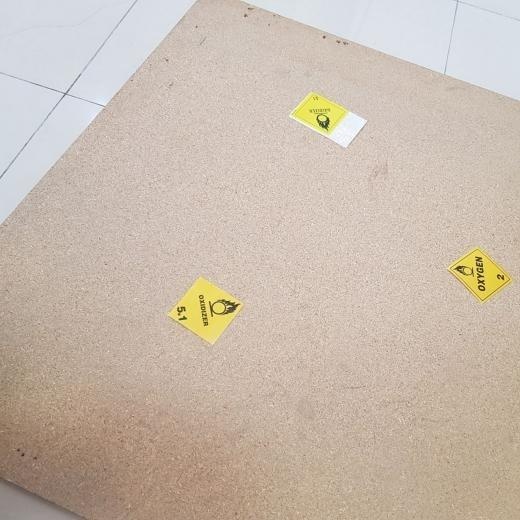oxidizer: (167, 278, 243, 346), (446, 246, 512, 302), (288, 89, 355, 138)
